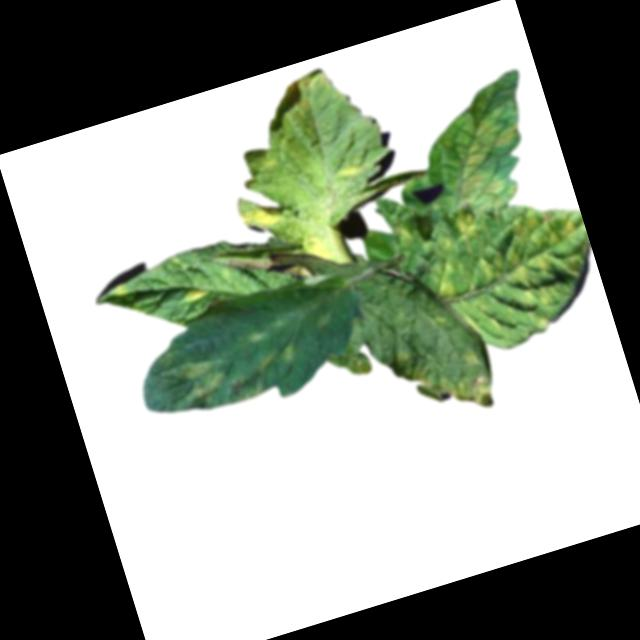Leaf_Mold: (419, 200, 606, 364), (408, 66, 555, 222), (397, 344, 498, 431), (164, 348, 238, 410), (281, 64, 339, 114), (236, 194, 292, 233), (253, 340, 304, 378), (449, 206, 484, 248), (332, 152, 369, 181), (177, 280, 213, 306)
